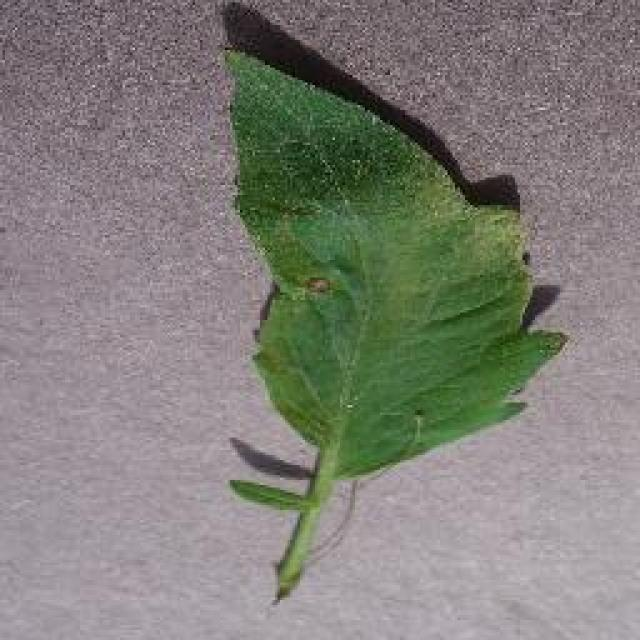Tomato___Target_Spot: (225, 50, 565, 598)
